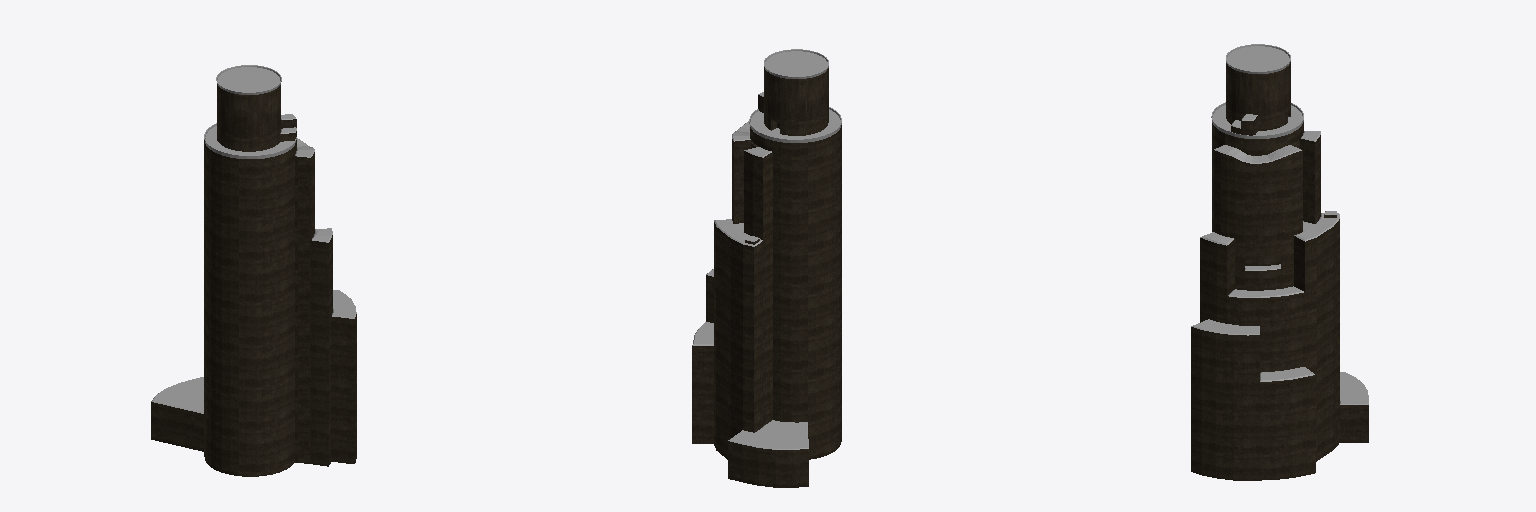
3 renders of one model, left to right at view 1: azimuth 30°, elevation 25°; view 2: azimuth 150°, elevation 25°; view 3: azimuth 270°, elevation 25°, orthographic.
Parts seen in each view (by area): view 1: cage_Circle.005, cage.002_Circle.015, cage.004_Circle.017; view 2: cage_Circle.005, cage.002_Circle.015, cage.004_Circle.017; view 3: cage_Circle.005, cage.002_Circle.015, cage.004_Circle.017.
Boxes of the visible parts, x1,y1,x2,y2 form: cage_Circle.005: [151, 84, 356, 476]; cage.002_Circle.015: [151, 67, 356, 413]; cage.004_Circle.017: [204, 65, 296, 158]; cage_Circle.005: [692, 67, 841, 487]; cage.002_Circle.015: [692, 51, 840, 449]; cage.004_Circle.017: [749, 49, 841, 142]; cage_Circle.005: [1191, 62, 1368, 480]; cage.002_Circle.015: [1191, 46, 1368, 404]; cage.004_Circle.017: [1211, 44, 1303, 138].
Size of the model in its own units: 5182 by 12849 by 5470.
Materials: 3 (1 with a texture image).